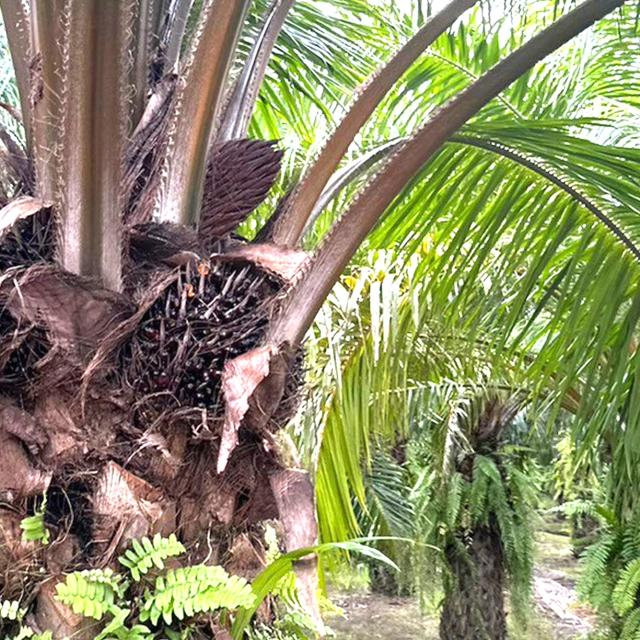ripe: (145, 262, 280, 399)
